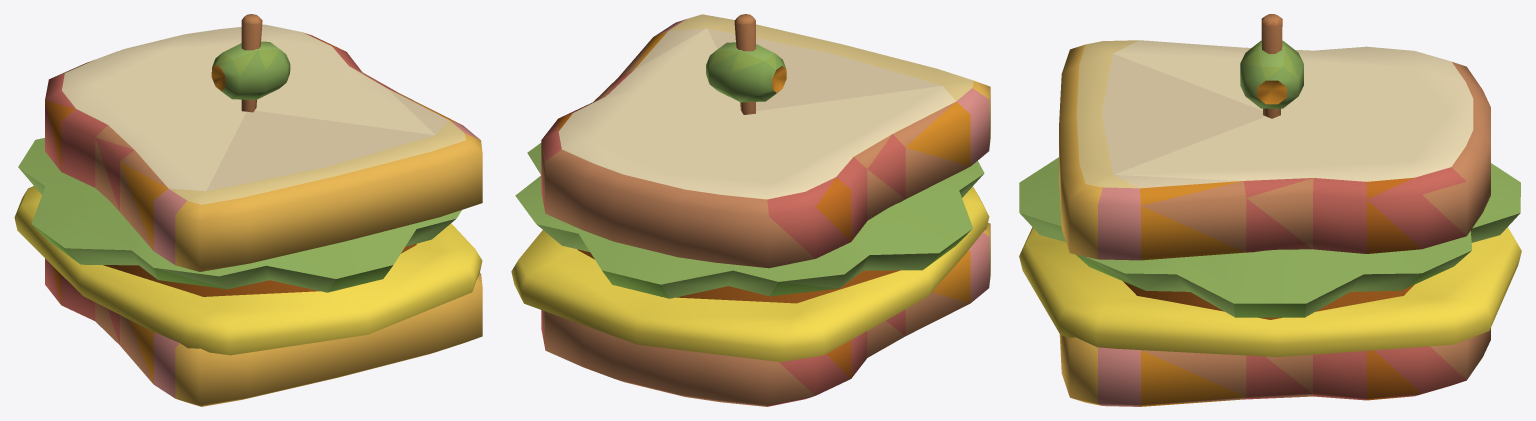
The model's file is itch_tiny_pleasant_picnic_sandwich.glb.
3 views of the same model, side by side, from view 1: azimuth 30°, elevation 25°; view 2: azimuth 150°, elevation 25°; view 3: azimuth 270°, elevation 25° (orthographic). The views are drawn at different scales.
Parts seen in each view (by area): view 1: sandwich; view 2: sandwich; view 3: sandwich.
Part boxes in pixels (bbox=[...]): sandwich: bbox=[14, 14, 482, 406]; sandwich: bbox=[511, 14, 990, 406]; sandwich: bbox=[1019, 14, 1521, 406].
Size of the model in its own units: 0.9574 by 0.6711 by 0.96.
